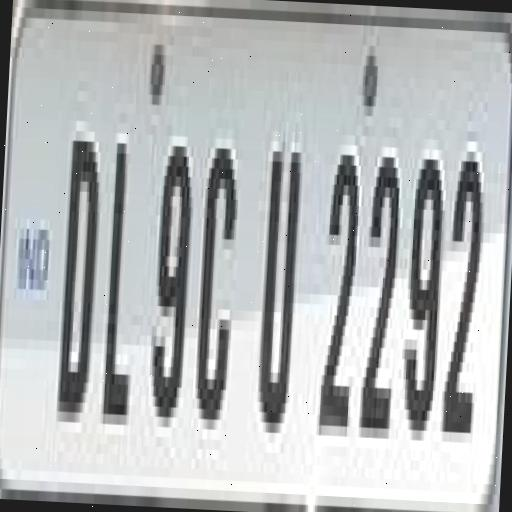number plate: (0, 7, 501, 512)
